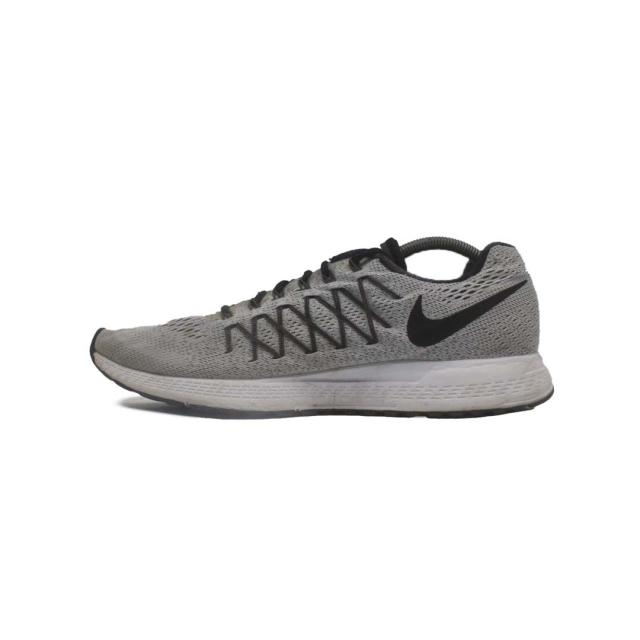heel: (481, 243, 539, 356)
midsole: (95, 355, 553, 421)
uppersole: (90, 243, 522, 378)
